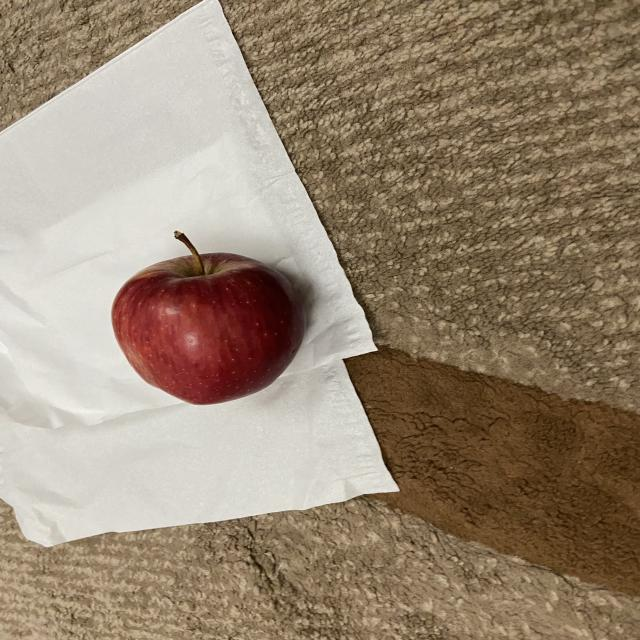apple: (104, 229, 311, 410)
